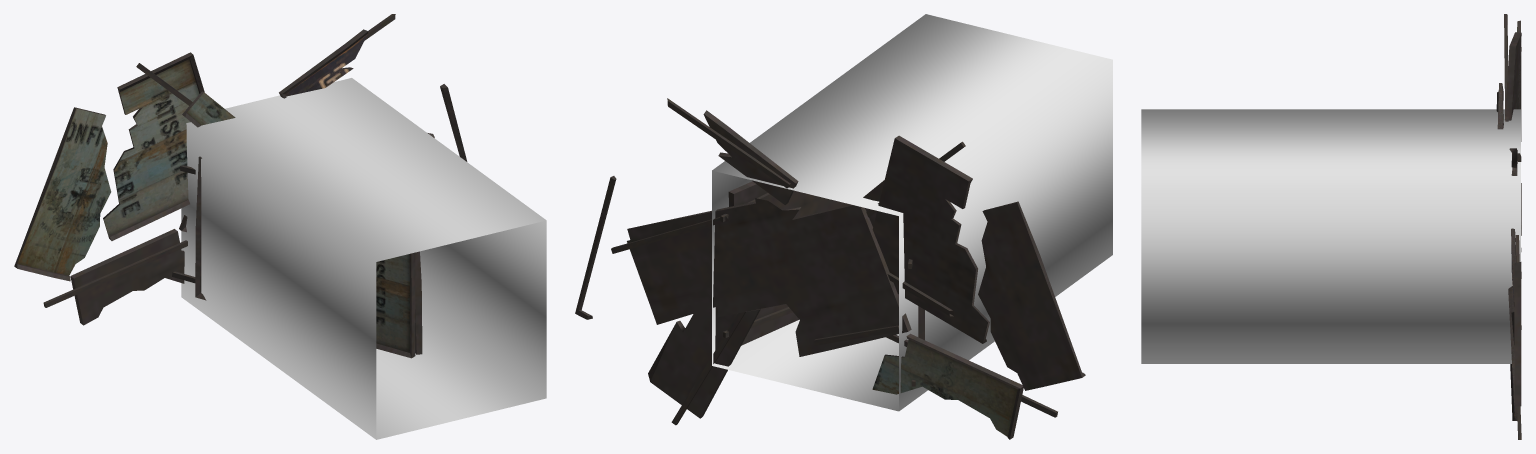
File: hd_env_112_10_AdvertisingPosters_01.glb
3 views of the same model, side by side, from view 1: azimuth 30°, elevation 25°; view 2: azimuth 150°, elevation 25°; view 3: azimuth 270°, elevation 25° (orthographic). The views are drawn at different scales.
Visible parts, largest first — view 1: set_0_group_0, set_0_group_1, set_0_group_2; view 2: set_0_group_1, set_0_group_0, set_0_group_2; view 3: set_0_group_0, set_0_group_1.
Boxes of the visible parts, x1,y1,x2,y2 form: set_0_group_0: [181, 78, 546, 439]; set_0_group_1: [14, 14, 467, 325]; set_0_group_2: [172, 156, 422, 358]; set_0_group_1: [575, 98, 1085, 439]; set_0_group_0: [712, 14, 1112, 411]; set_0_group_2: [720, 181, 924, 386]; set_0_group_0: [1141, 109, 1520, 363]; set_0_group_1: [1496, 14, 1521, 439].
Size of the model in its own units: 2.74 by 1.78 by 2.
Materials: 3 (2 with a texture image).
